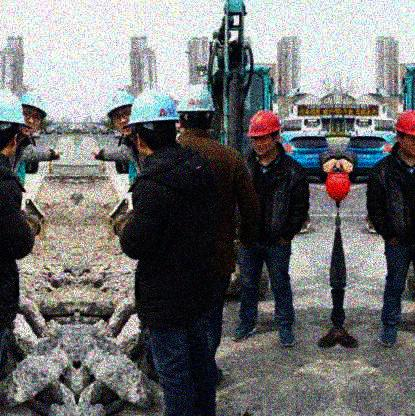helmet: (128, 90, 180, 159), (177, 85, 216, 132), (1, 89, 25, 156), (248, 110, 282, 156), (104, 91, 135, 140), (20, 90, 48, 139), (395, 110, 415, 159)
